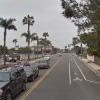Tree: (57, 1, 100, 73)
